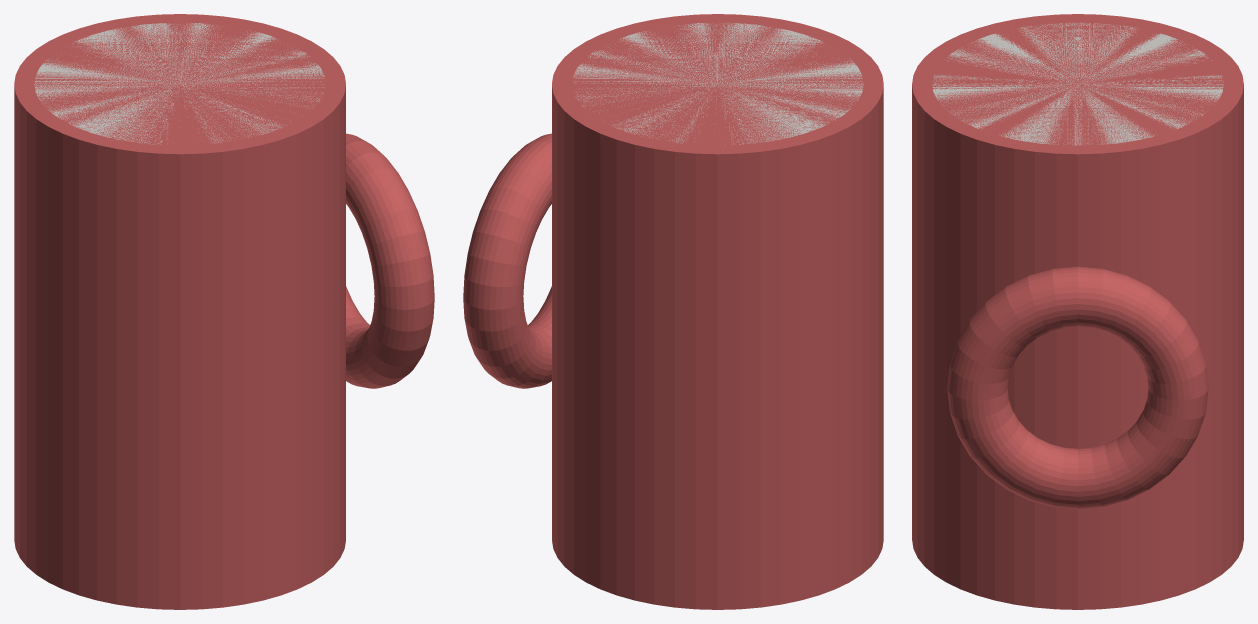
The picture shows the model from 3 angles, left to right: view 1: azimuth 30°, elevation 25°; view 2: azimuth 150°, elevation 25°; view 3: azimuth 270°, elevation 25°; orthographic projection.
Visible parts, largest first — view 1: world; view 2: world; view 3: world.
Part boxes in pixels (<box>): world: <box>14,14,434,609</box>; world: <box>463,14,883,609</box>; world: <box>912,14,1243,609</box>.
Size of the model in its own units: 0.079 by 0.1 by 0.066.
